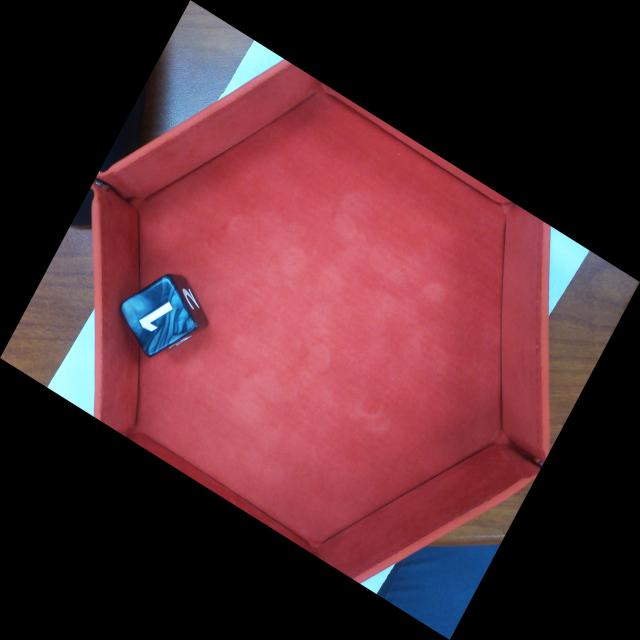dice: (122, 279, 194, 350)
